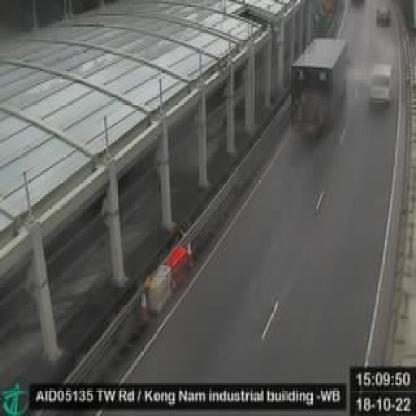Car: (373, 4, 392, 30)
Truck: (288, 38, 350, 142), (368, 61, 395, 110)
